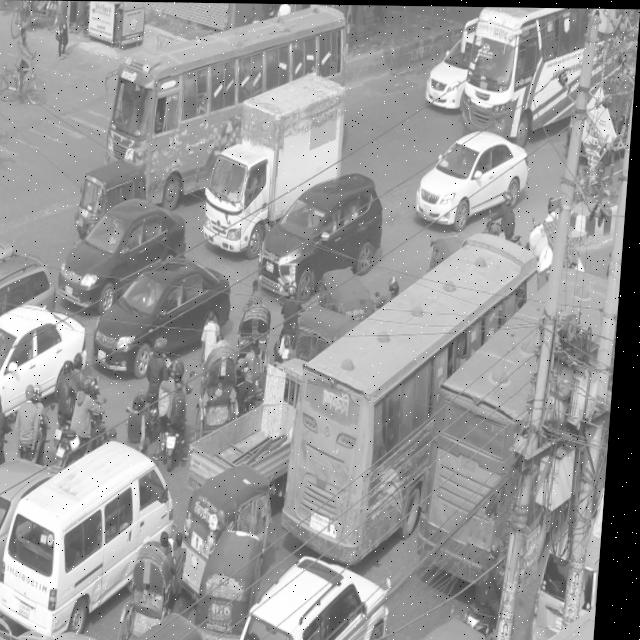cng: (179, 462, 285, 603), (207, 519, 284, 640), (70, 159, 149, 258)
rikshaw: (115, 516, 201, 640), (234, 283, 283, 404), (198, 318, 246, 429)
